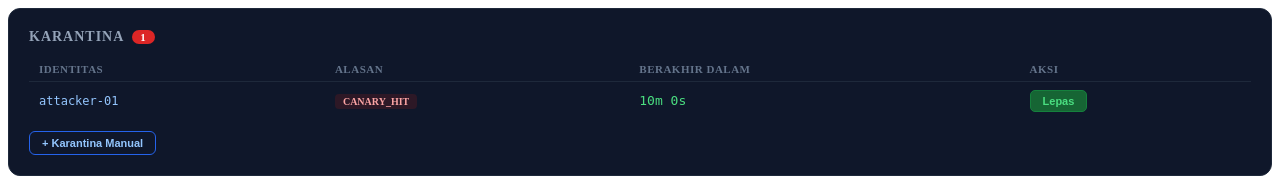
it: QuarantineTable › shows "Melepas…" label while release is in progress
This screenshot has width=1280, height=193.
What coordinates should you click on to do the following:
click the button "Lepas"
I would click on:
 (1058, 101)
Its box is x1=1030 y1=90 x2=1087 y2=112.
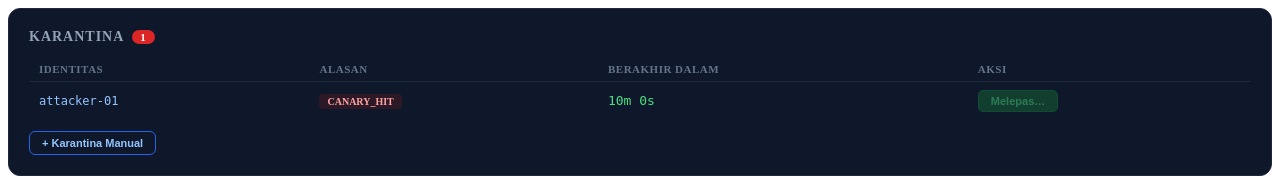
Expected: the button "Melepas…" is shown, x1=978 y1=90 x2=1058 y2=112
